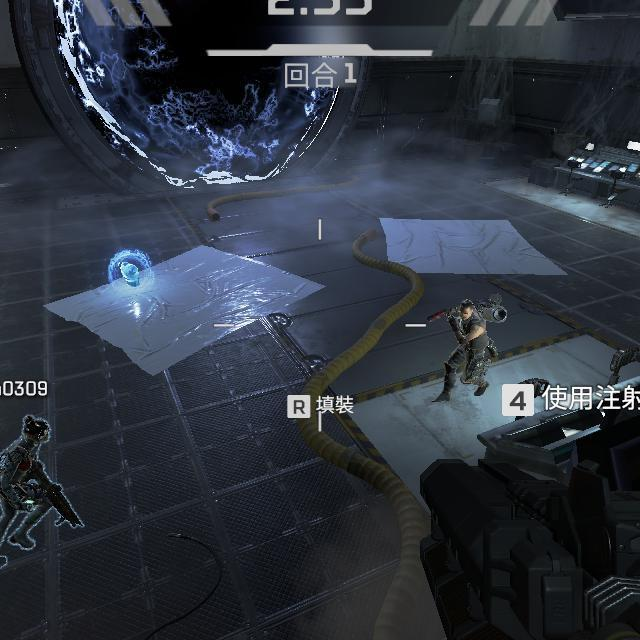avatar: (0, 410, 57, 571), (440, 296, 496, 400)
